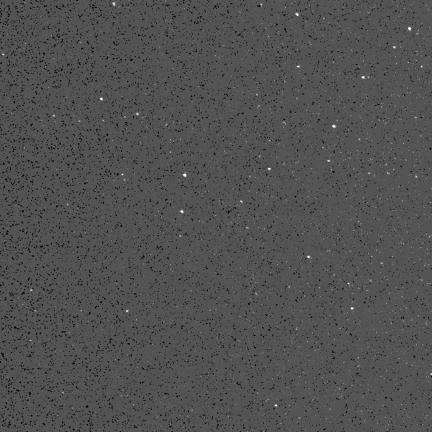blob: (408, 27, 412, 32), (362, 76, 366, 80), (180, 210, 184, 214), (296, 13, 300, 17), (351, 307, 354, 311), (307, 256, 311, 259), (183, 173, 186, 177), (333, 125, 336, 129), (393, 46, 397, 49), (268, 168, 271, 171), (100, 98, 103, 101), (297, 66, 301, 68), (327, 160, 331, 162)
